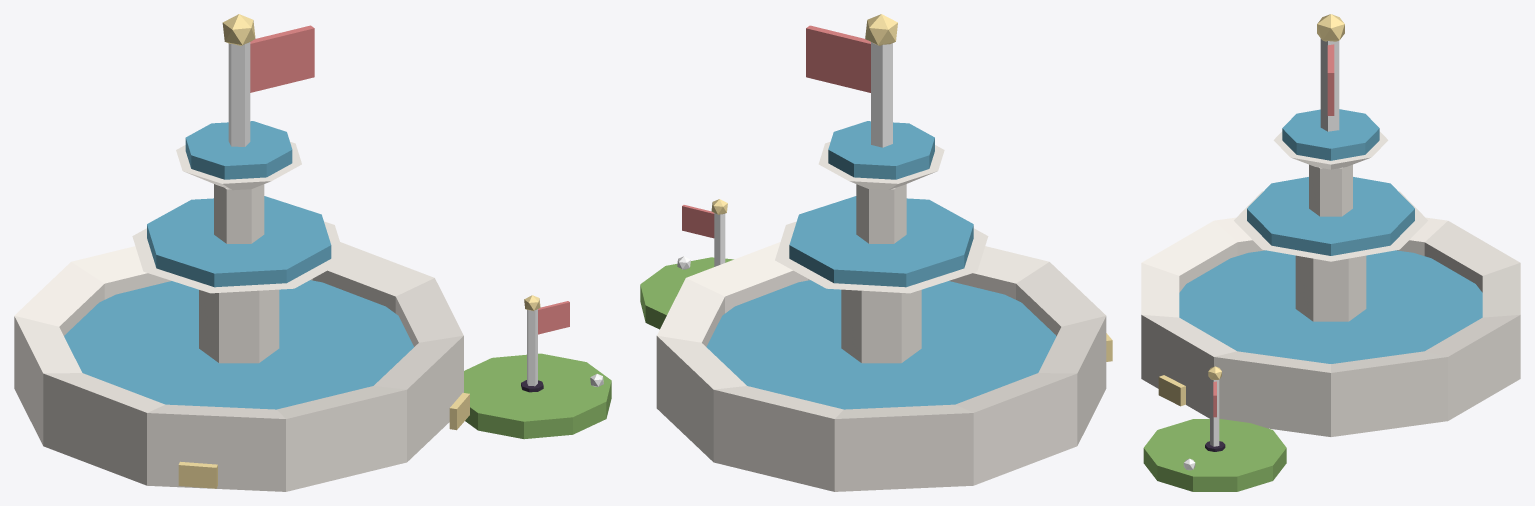
The model's file is park-landmark-s2.glb.
3 views of the same model, side by side, from view 1: azimuth 30°, elevation 25°; view 2: azimuth 150°, elevation 25°; view 3: azimuth 270°, elevation 25° (orthographic). The views are drawn at different scales.
Visible parts, largest first — view 1: park-landmark-s2; view 2: park-landmark-s2; view 3: park-landmark-s2.
Boxes of the visible parts, x1=… form: park-landmark-s2: x1=14, y1=14, x2=611, y2=491; park-landmark-s2: x1=640, y1=14, x2=1112, y2=491; park-landmark-s2: x1=1141, y1=14, x2=1520, y2=491.
Size of the model in its own units: 1.46 by 1.14 by 1.11.
